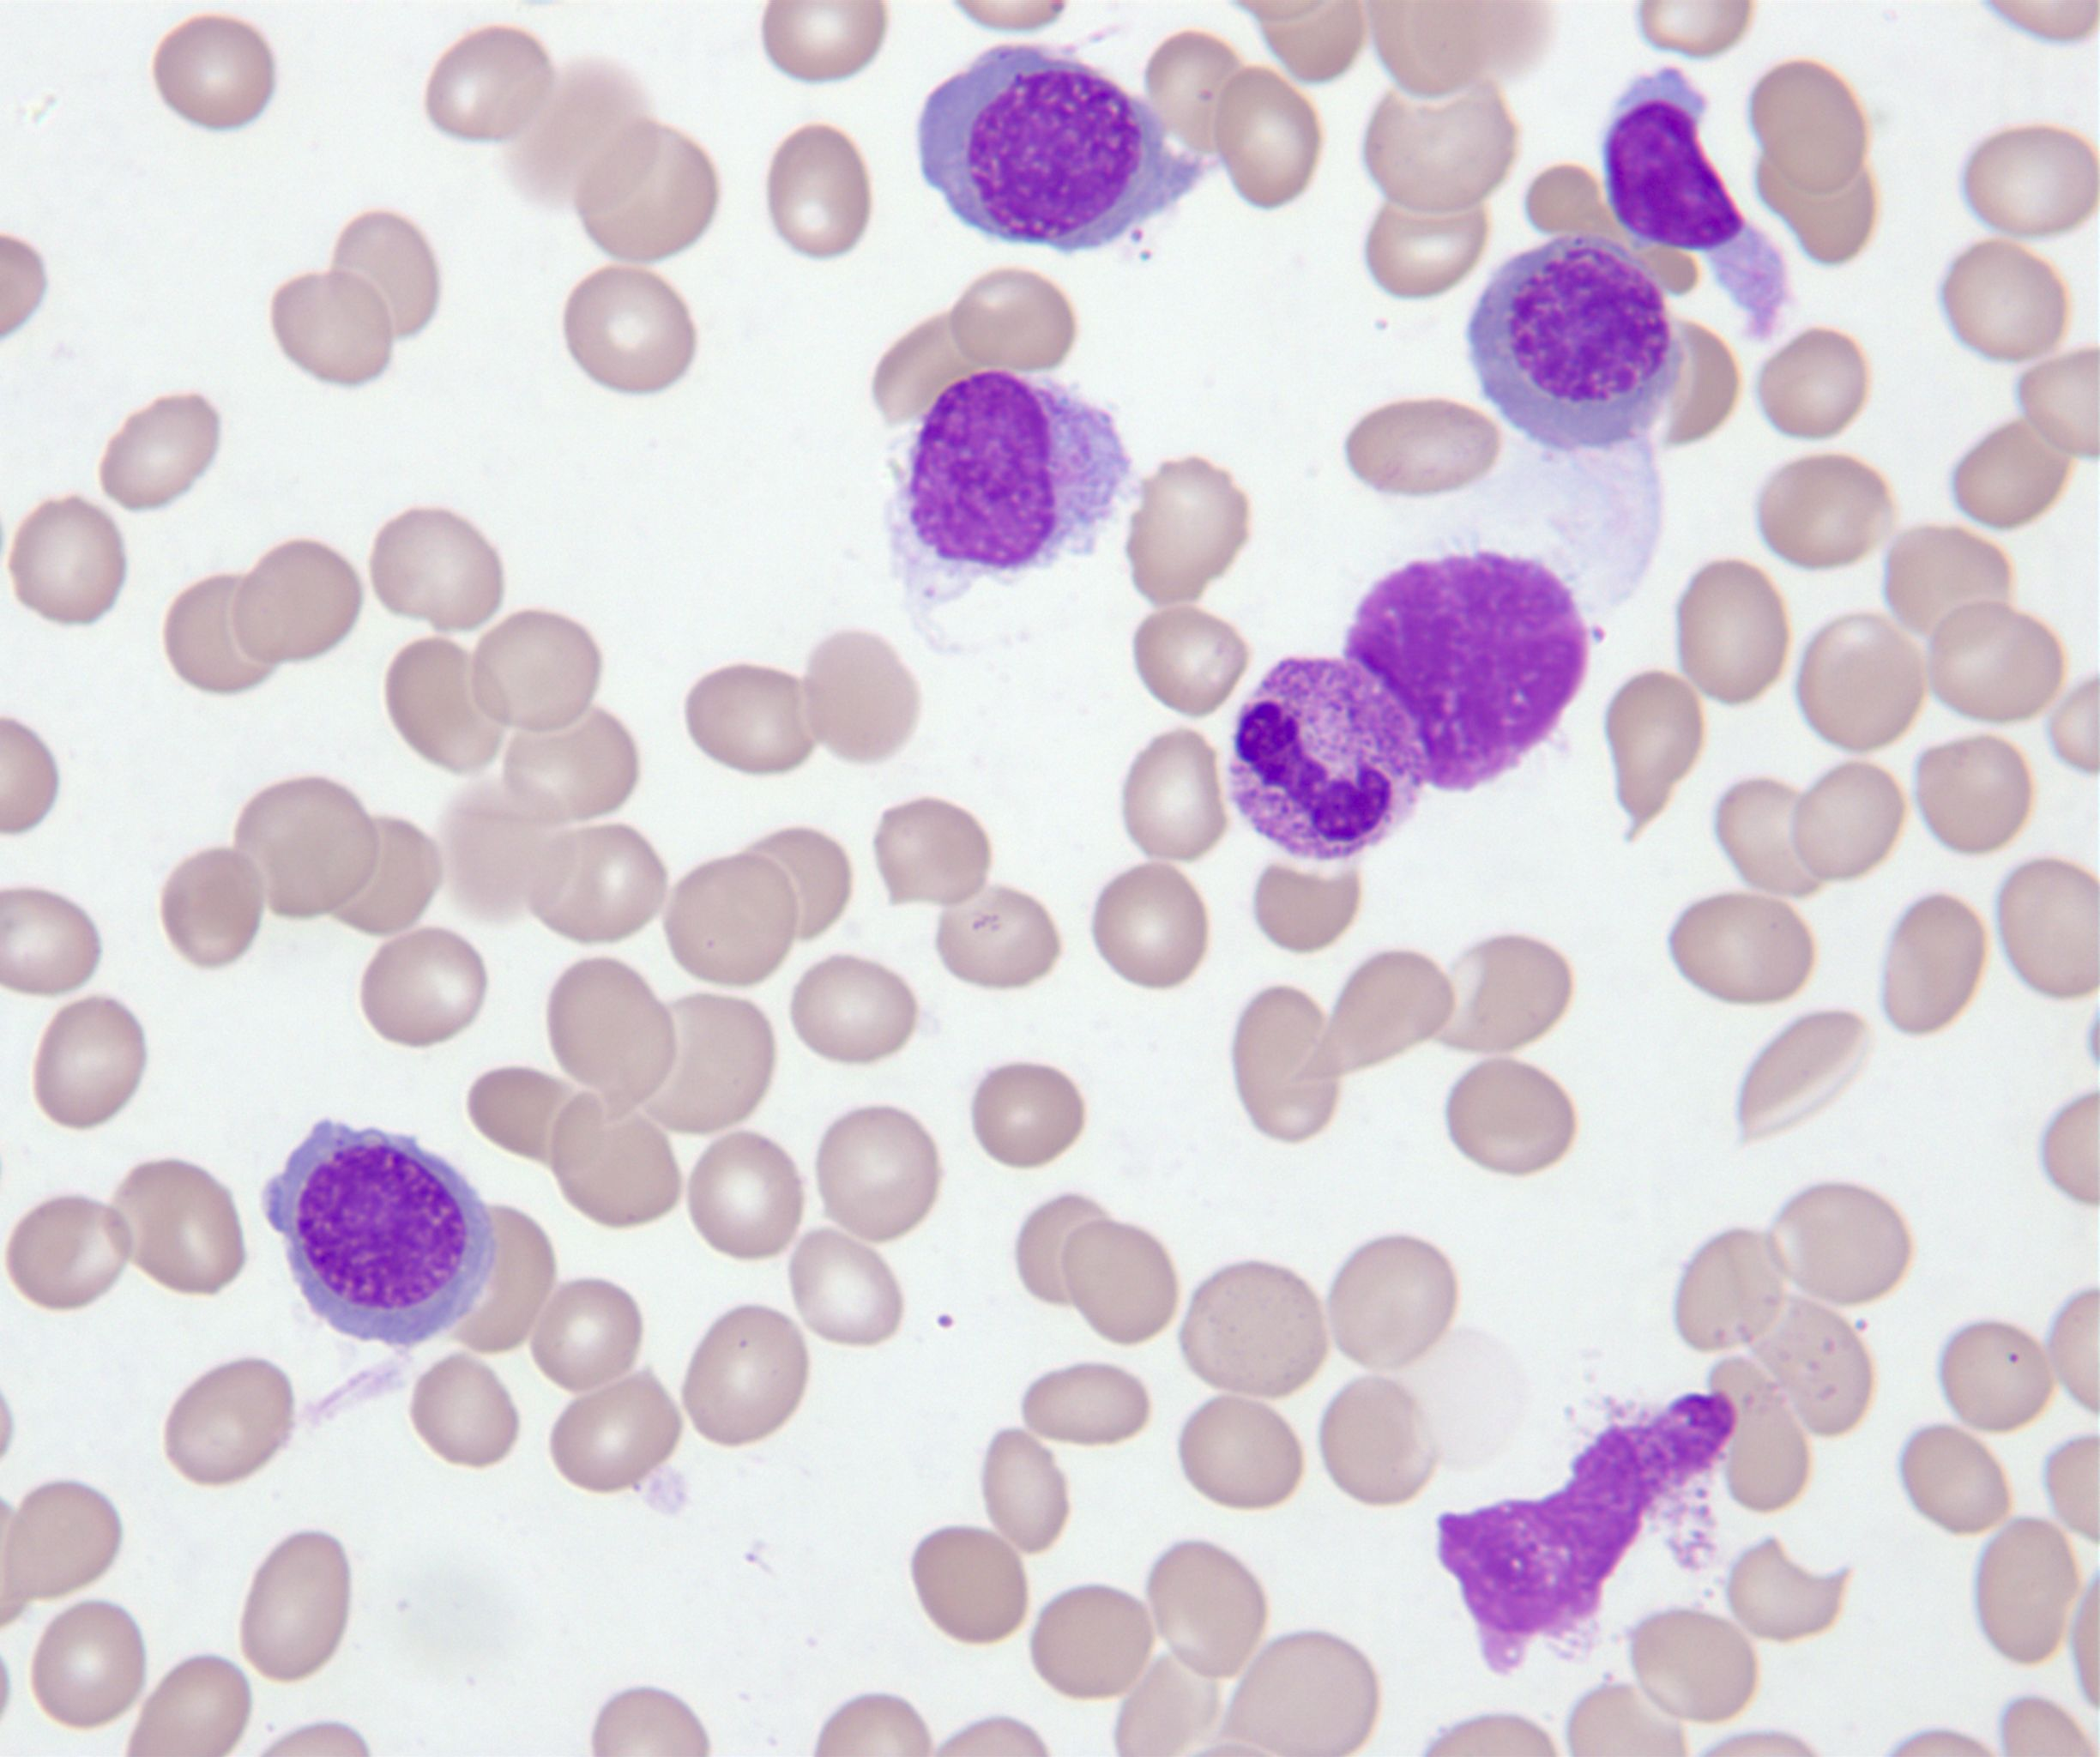23: (921, 47, 1219, 253), (262, 1120, 494, 1343), (1469, 236, 1683, 450)
32: (1603, 68, 1784, 342)
5: (1228, 658, 1425, 862)
x: (1437, 1392, 1737, 1680), (886, 370, 1128, 656), (1345, 551, 1585, 790)
